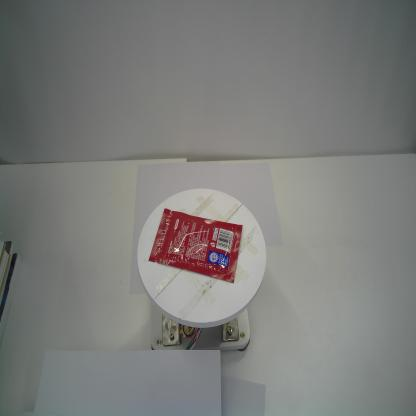Seasoner: (147, 207, 245, 284)
